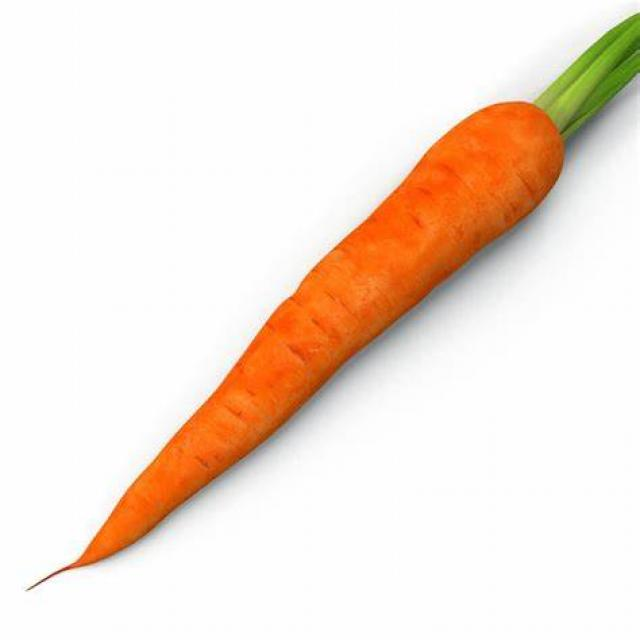Carrot: (34, 101, 558, 595)
